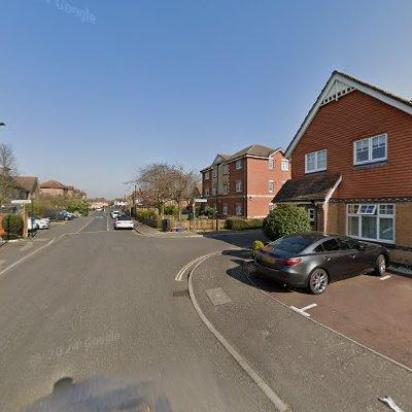stationary-car-offstreet: (253, 232, 393, 295), (48, 208, 71, 222), (35, 217, 49, 229), (27, 217, 37, 230), (68, 211, 78, 221)
stationary-car-onstreet: (114, 214, 135, 230), (112, 209, 120, 219)
